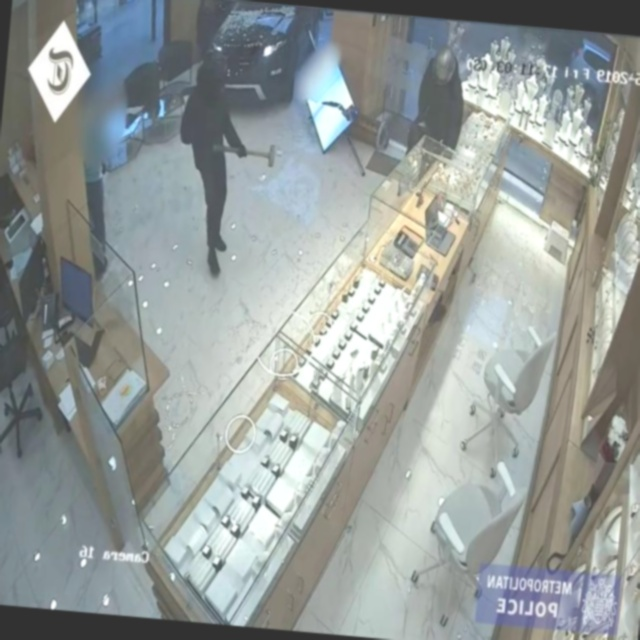gun: (194, 128, 293, 176)
